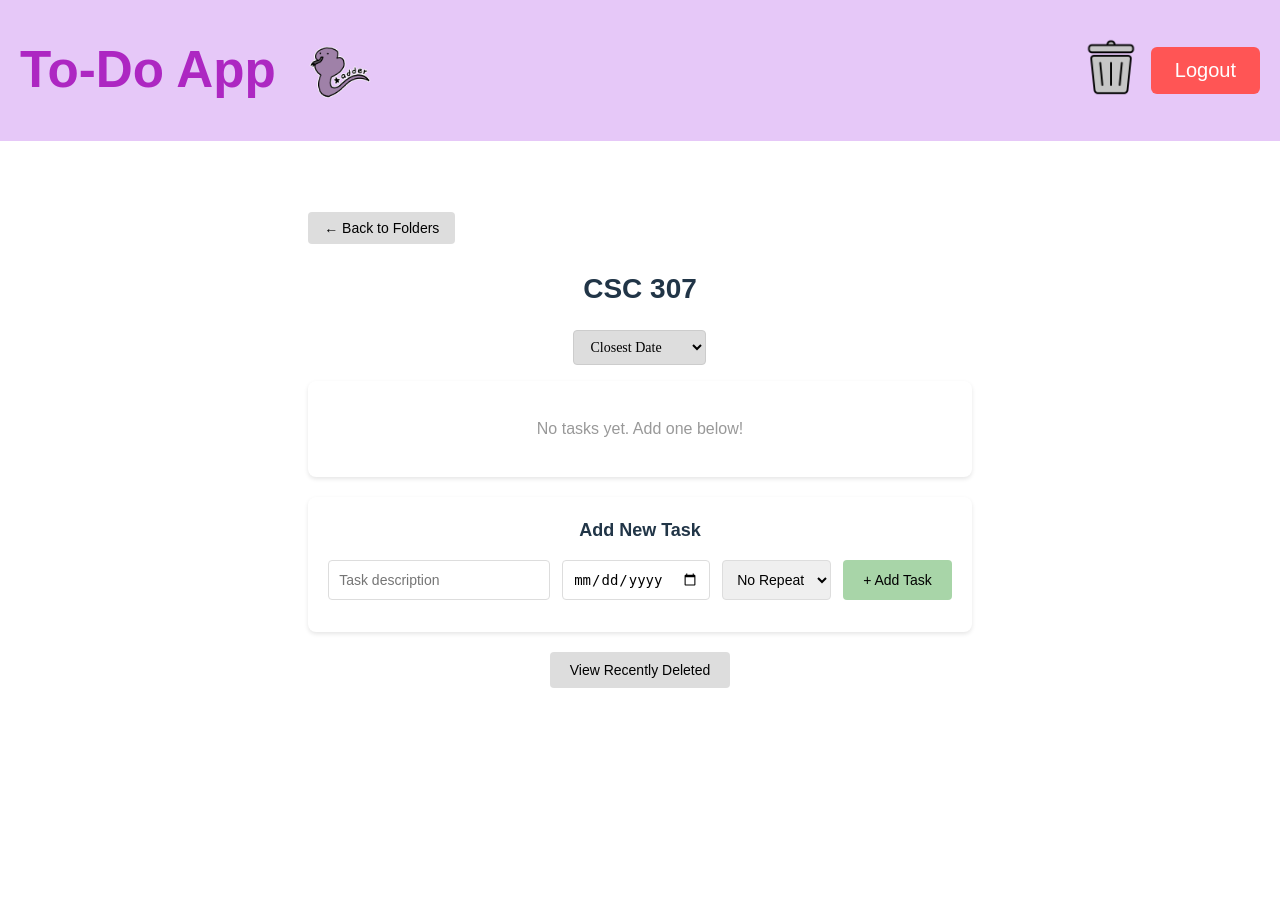
create task
Check: the heading "CSC 307" is shown, box [583,273,697,304]
Step 1. Type "test" into the field labelled "Task description" → coordinates (439, 580), box [328,560,550,600]
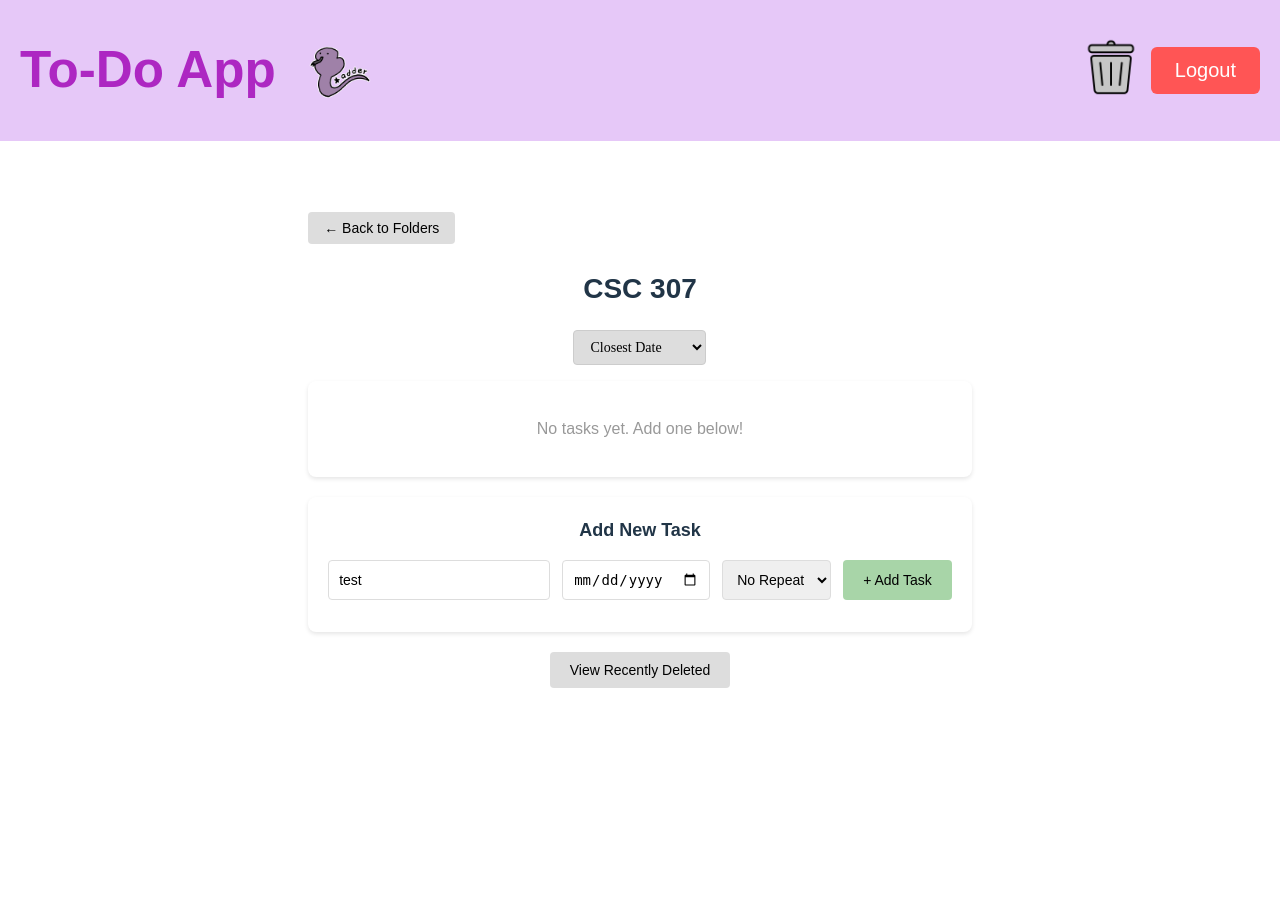
Step 2. Type "2025-01-01" into the date field named "date" → coordinates (636, 580), box [562,560,710,600]
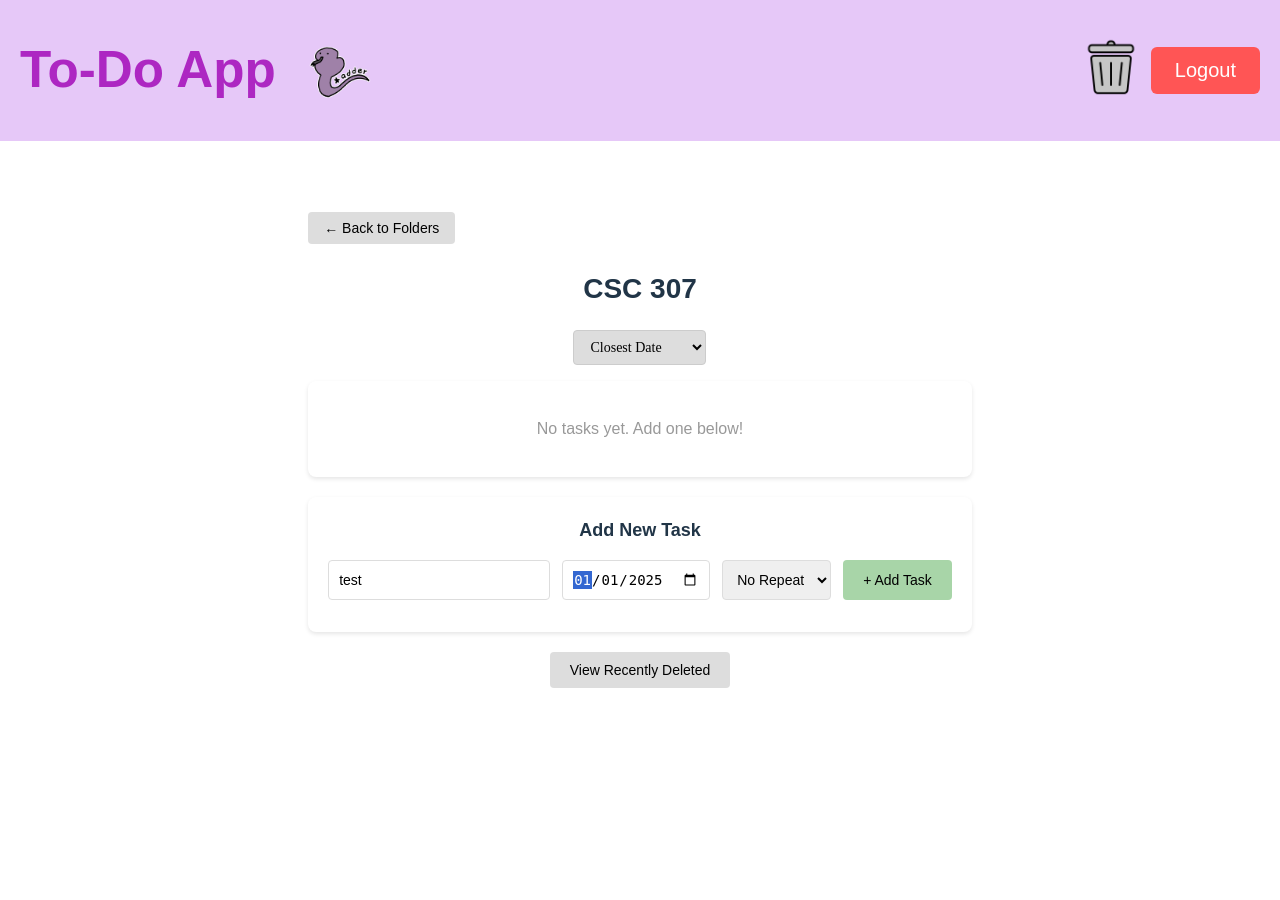
Step 3. Click the button "+ Add Task" → coordinates (898, 580), box [843,560,952,600]
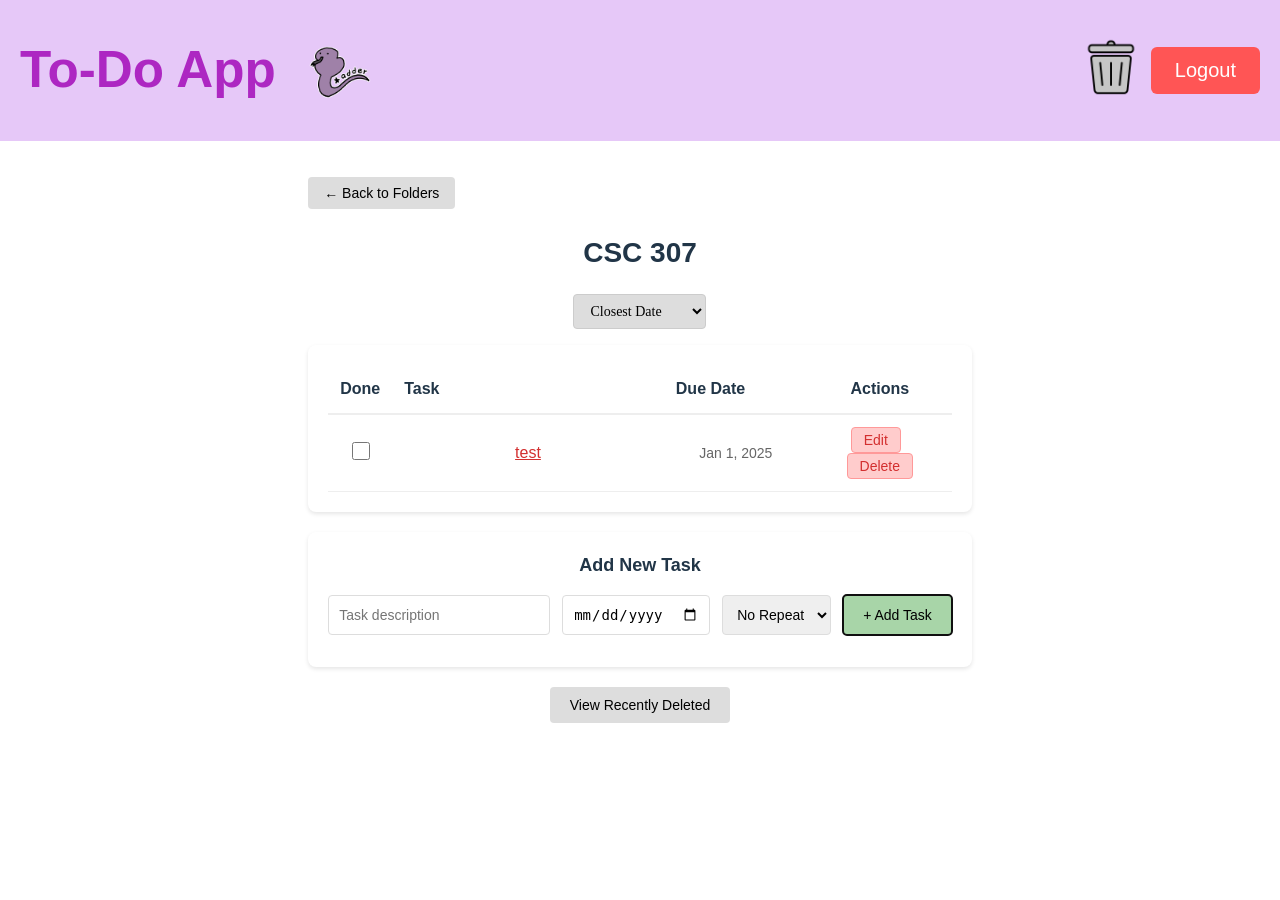
Check: the text "test" is shown, box [392,414,664,492]
Check: the field labelled "Task description" is empty, box [328,595,550,635]
Check: the date field named "date" is empty, box [562,595,710,635]
